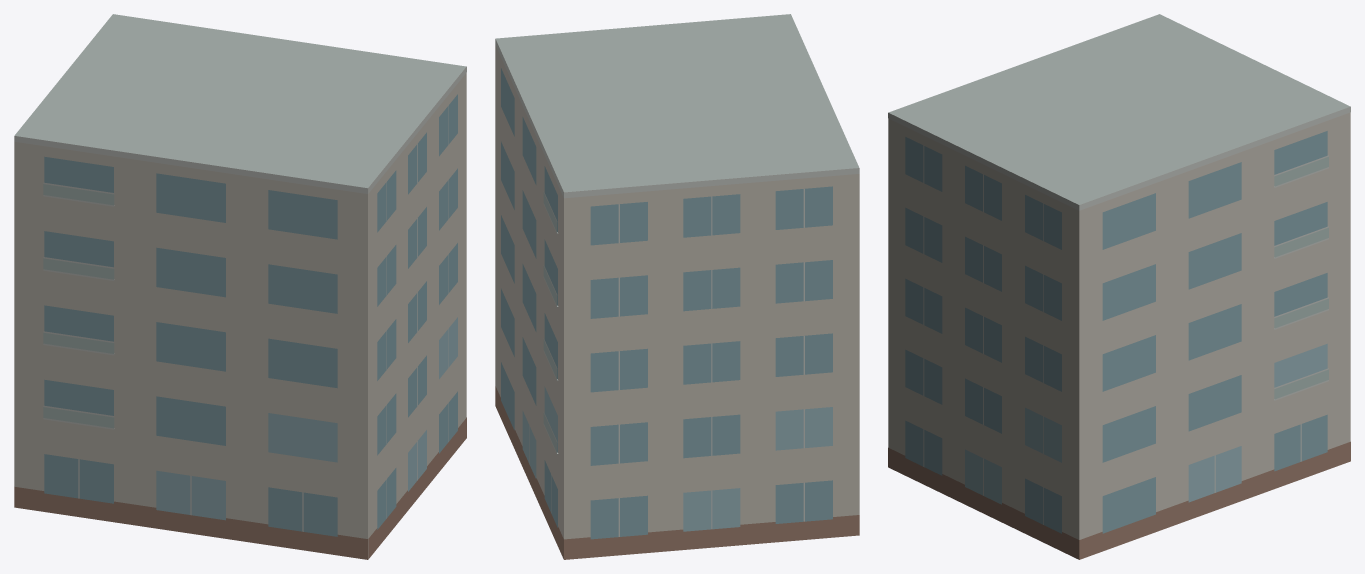
File: survey-upis-32629682.glb
3 renders of one model, left to right at view 1: azimuth 30°, elevation 25°; view 2: azimuth 150°, elevation 25°; view 3: azimuth 270°, elevation 25°, orthographic. The views are drawn at different scales.
Visible parts, largest first — view 1: survey-upis-32629682.tmp; view 2: survey-upis-32629682.tmp; view 3: survey-upis-32629682.tmp.
Part boxes in pixels (<box>): survey-upis-32629682.tmp: <box>14,14,466,559</box>; survey-upis-32629682.tmp: <box>495,14,859,559</box>; survey-upis-32629682.tmp: <box>888,14,1350,559</box>.
Size of the model in its own units: 17.63 by 15.25 by 18.03.
